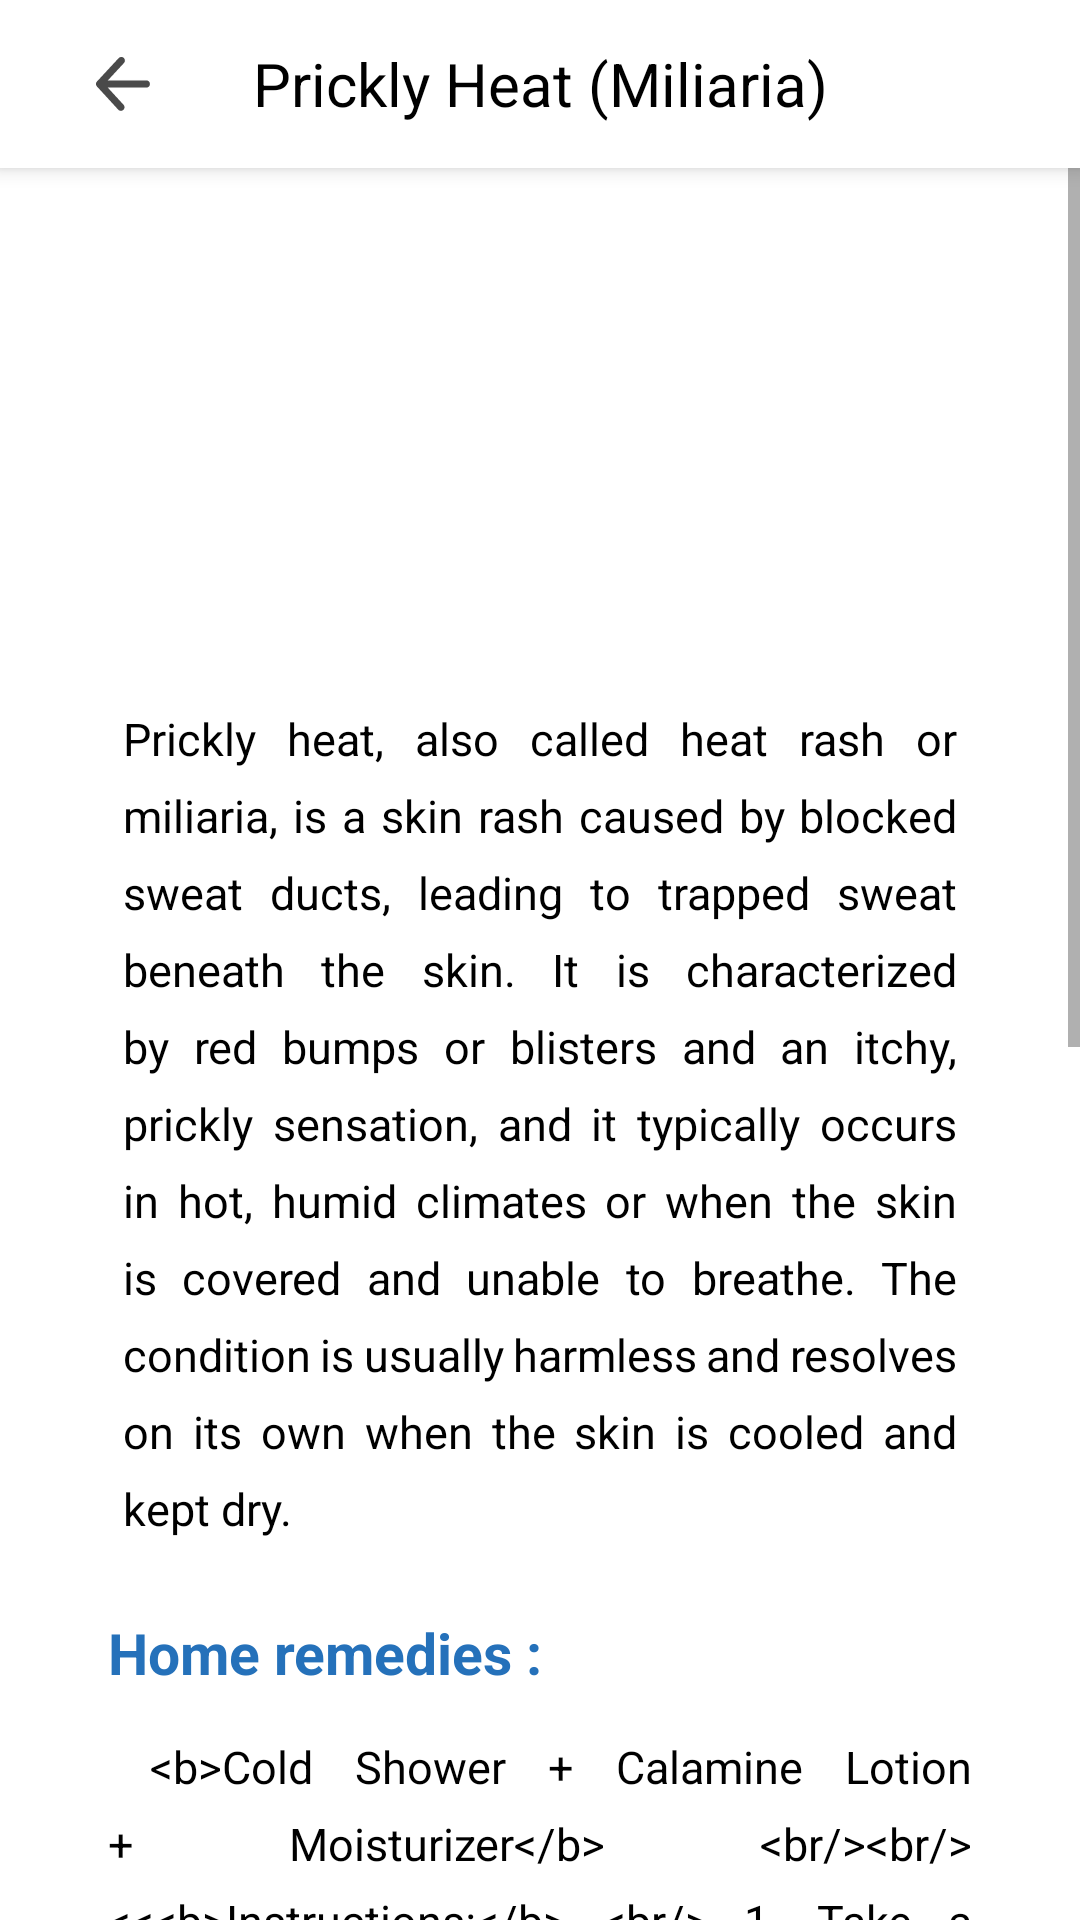

Where to tap for icons on this 1080w x 1920h app screen, as (x,y):
Back: (123,84)
